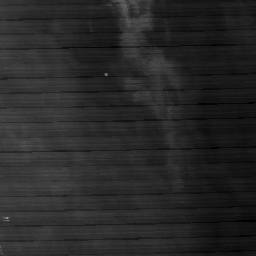Target: (103, 71, 109, 78)
